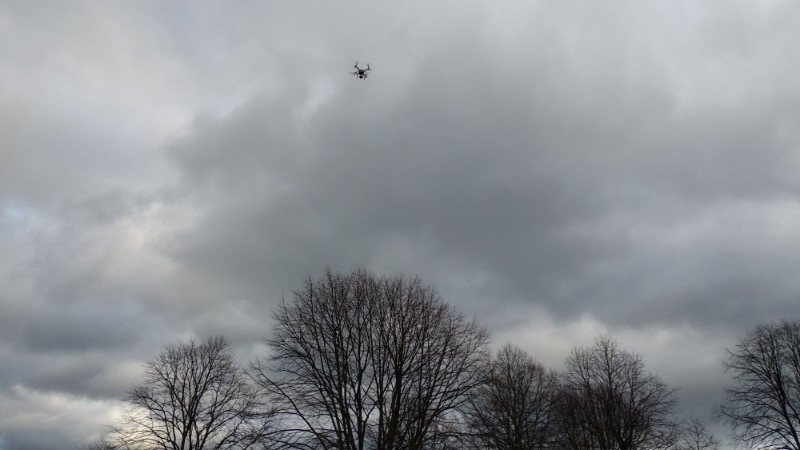drone: (352, 62, 371, 81)
